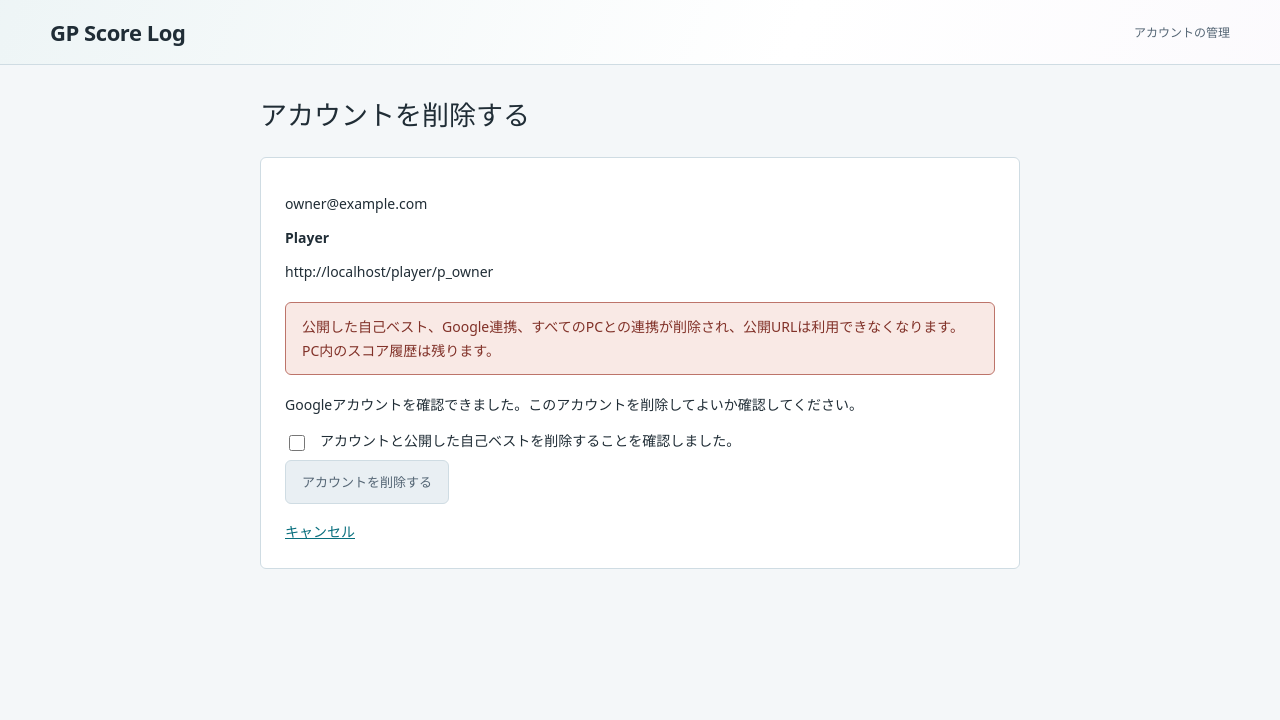
Web management › deletion re-displays target with unchecked consent and recovers both lost responses via result proof
Expected: the button "アカウントを削除する" is disabled, [285,460,449,504]
Expected: the text "Player" is shown, [285,228,329,247]
Step 1. Click the checkbox → (297, 443), box [289,435,305,451]
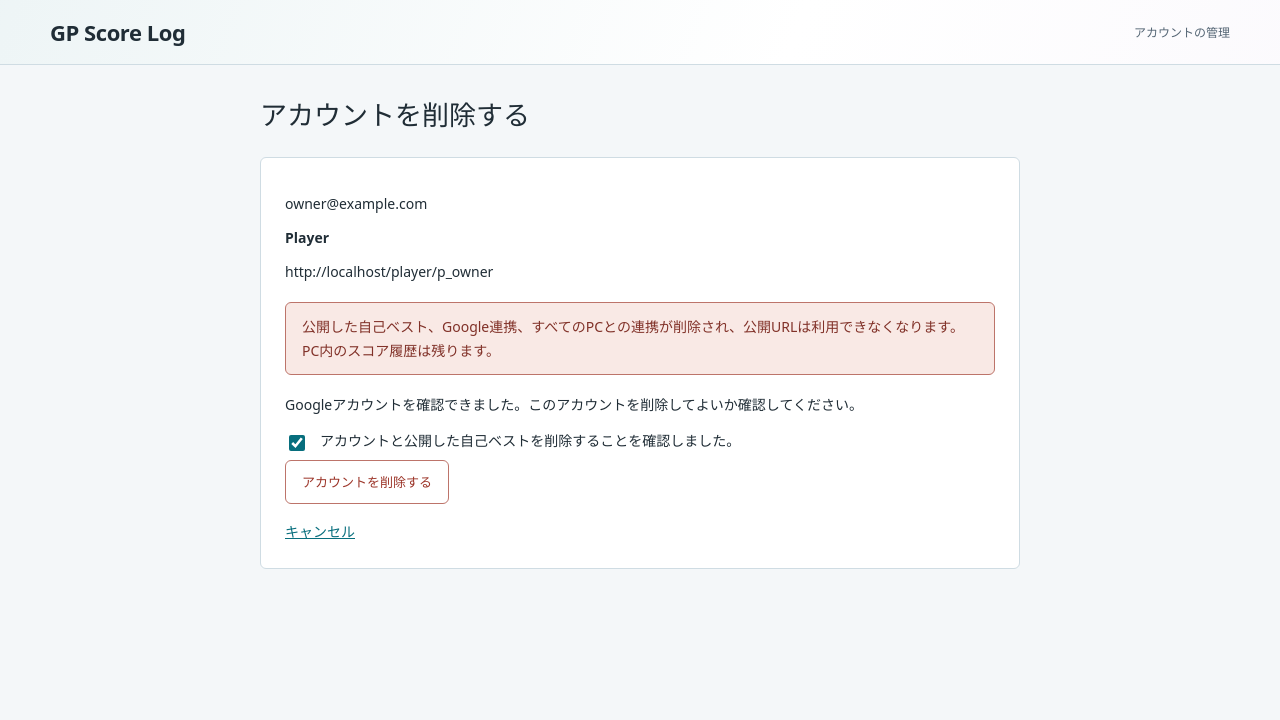
Step 2. Click the button "アカウントを削除する" → (367, 482), box [285,460,449,504]
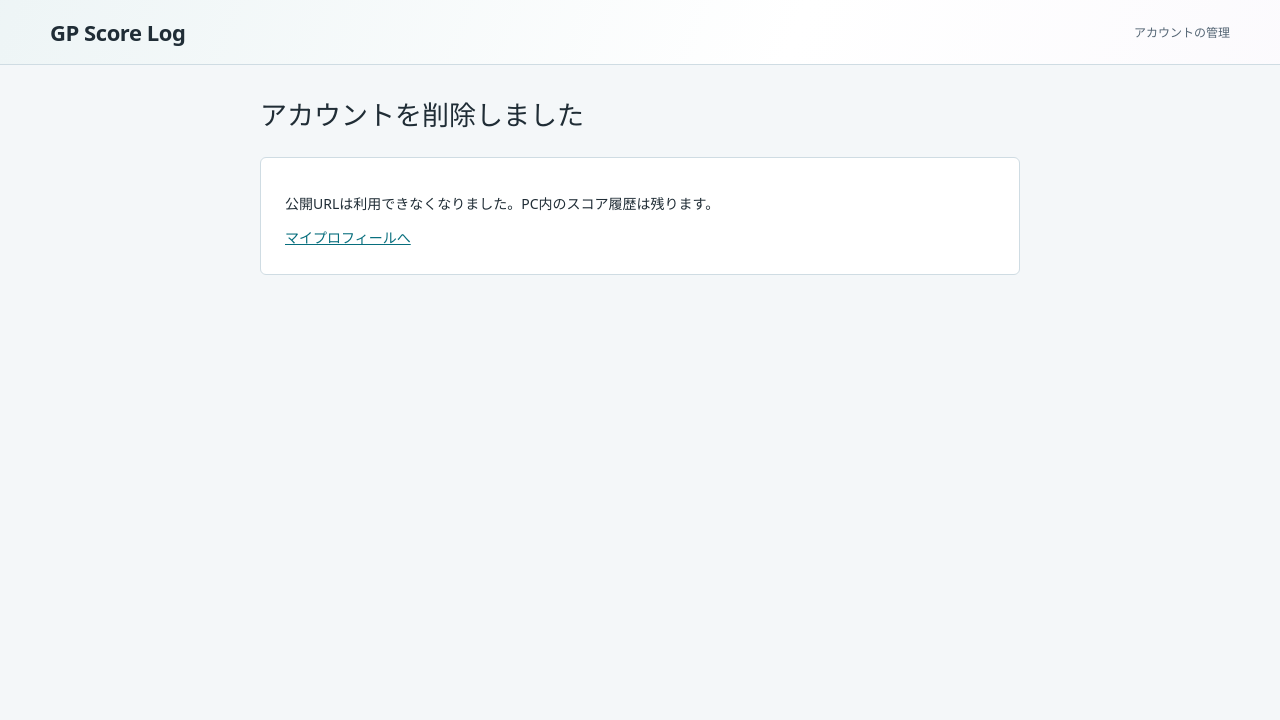
Now the heading "アカウントを削除しました" is shown, box [260,96,584,133]
